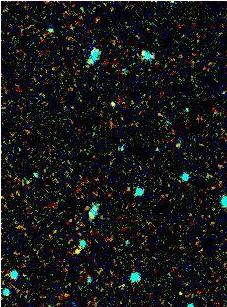star: (61, 234, 91, 264)
